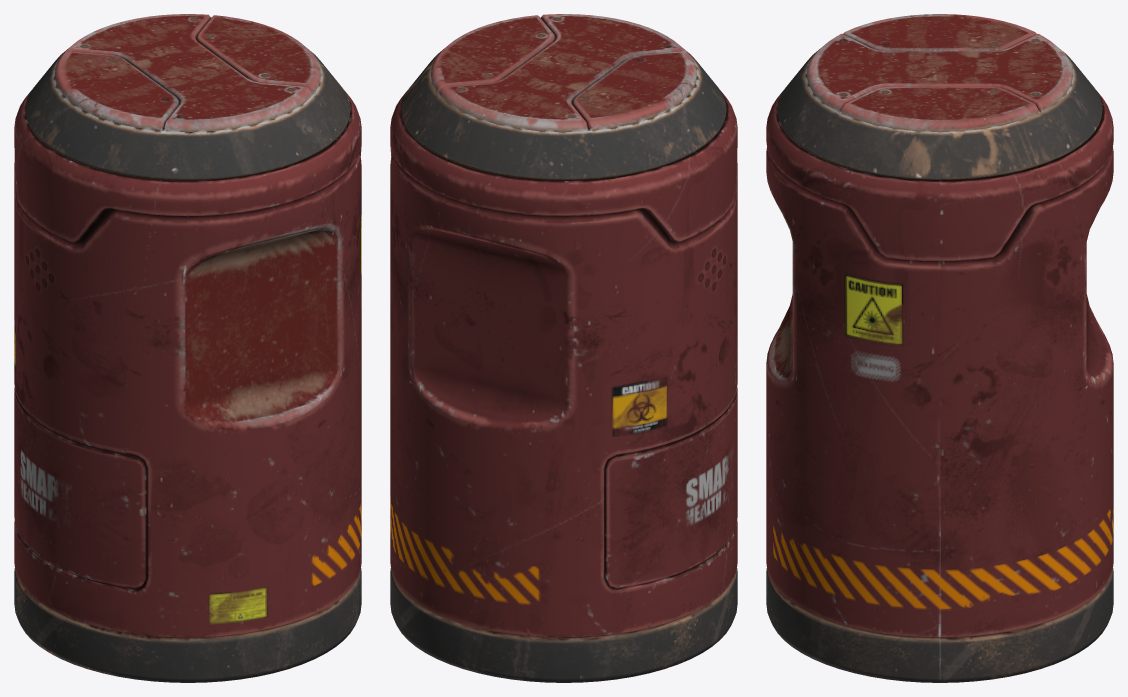
The model's file is SM_Canister03.fbx.
The picture shows the model from 3 angles, left to right: view 1: azimuth 30°, elevation 25°; view 2: azimuth 150°, elevation 25°; view 3: azimuth 270°, elevation 25°; orthographic projection.
Visible parts, largest first — view 1: SM_Canister03_LOD0; view 2: SM_Canister03_LOD0; view 3: SM_Canister03_LOD0.
Part boxes in pixels (<box>): SM_Canister03_LOD0: <box>14,14,361,682</box>; SM_Canister03_LOD0: <box>390,14,737,682</box>; SM_Canister03_LOD0: <box>766,14,1113,682</box>.
Bounding box in the file's own units: 38.95 × 38.95 × 67.51.
1 material, 1 textured.
